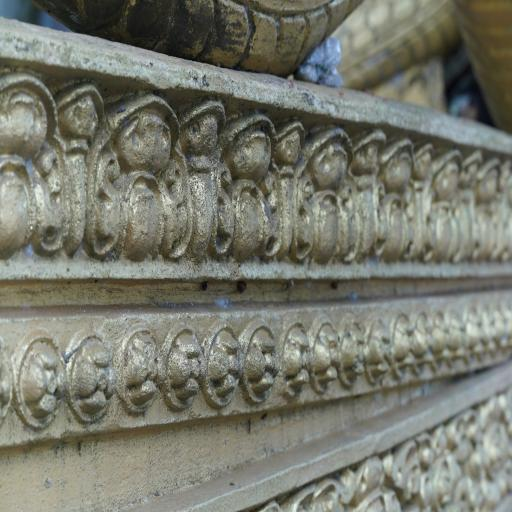hoa: (4, 318, 70, 434), (59, 322, 120, 428), (154, 313, 204, 413), (194, 310, 239, 415), (236, 311, 279, 415), (122, 315, 164, 412), (271, 311, 313, 403), (307, 310, 345, 402), (336, 311, 367, 400), (364, 315, 388, 393), (422, 304, 443, 384), (392, 308, 411, 392), (436, 297, 453, 377), (412, 308, 428, 386)
la: (76, 80, 198, 264), (0, 67, 79, 256), (202, 105, 284, 258), (285, 122, 371, 260), (414, 137, 470, 271), (364, 134, 417, 264), (468, 153, 512, 277)
